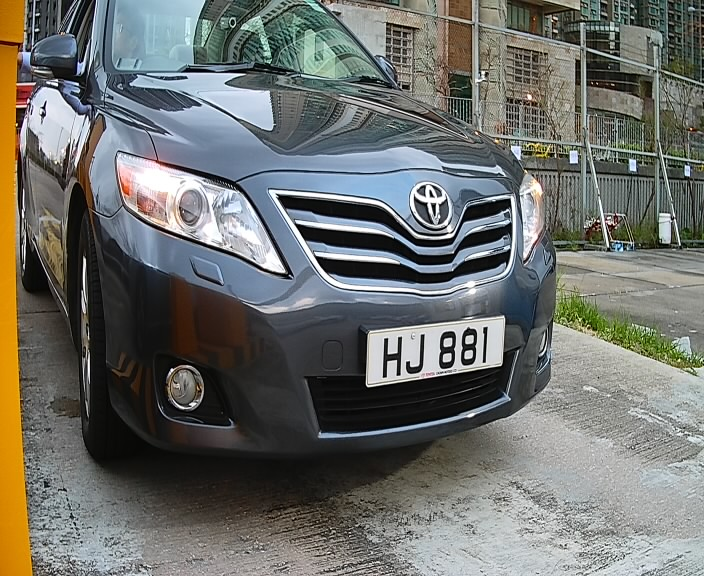Car: (59, 3, 559, 503)
License Plate: (359, 312, 508, 393)
